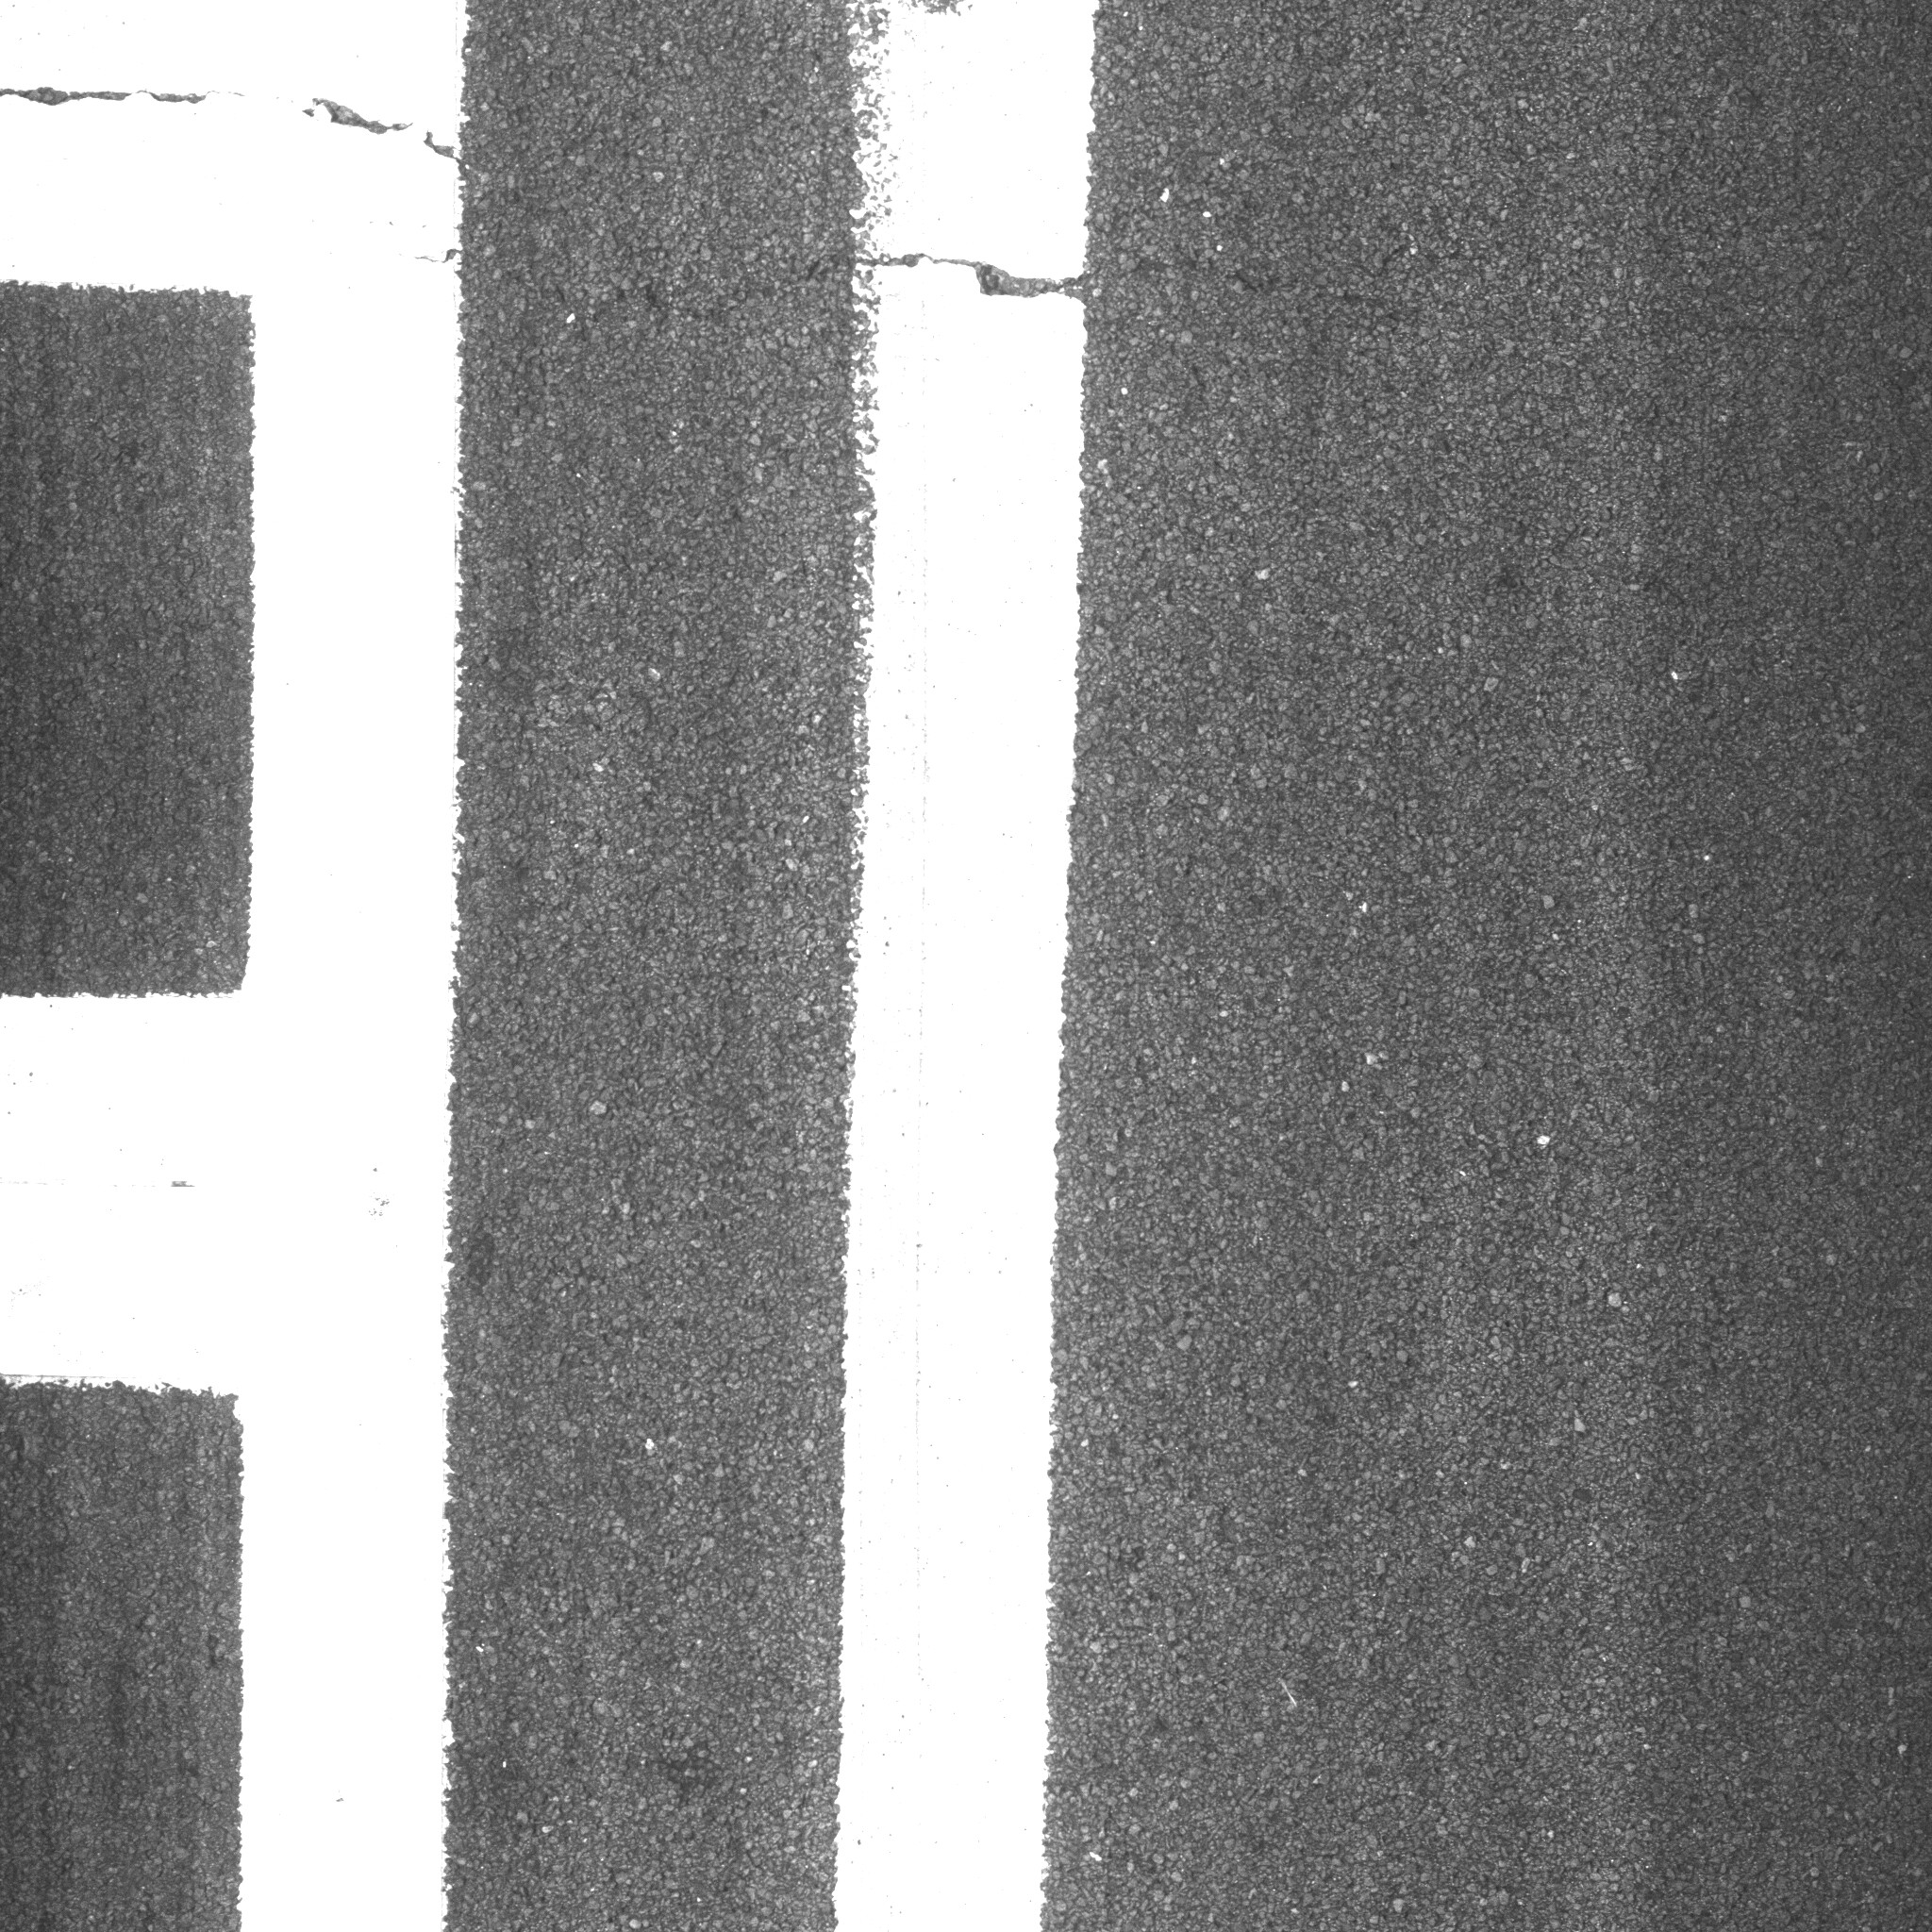transverse: (7, 50, 1852, 426)
